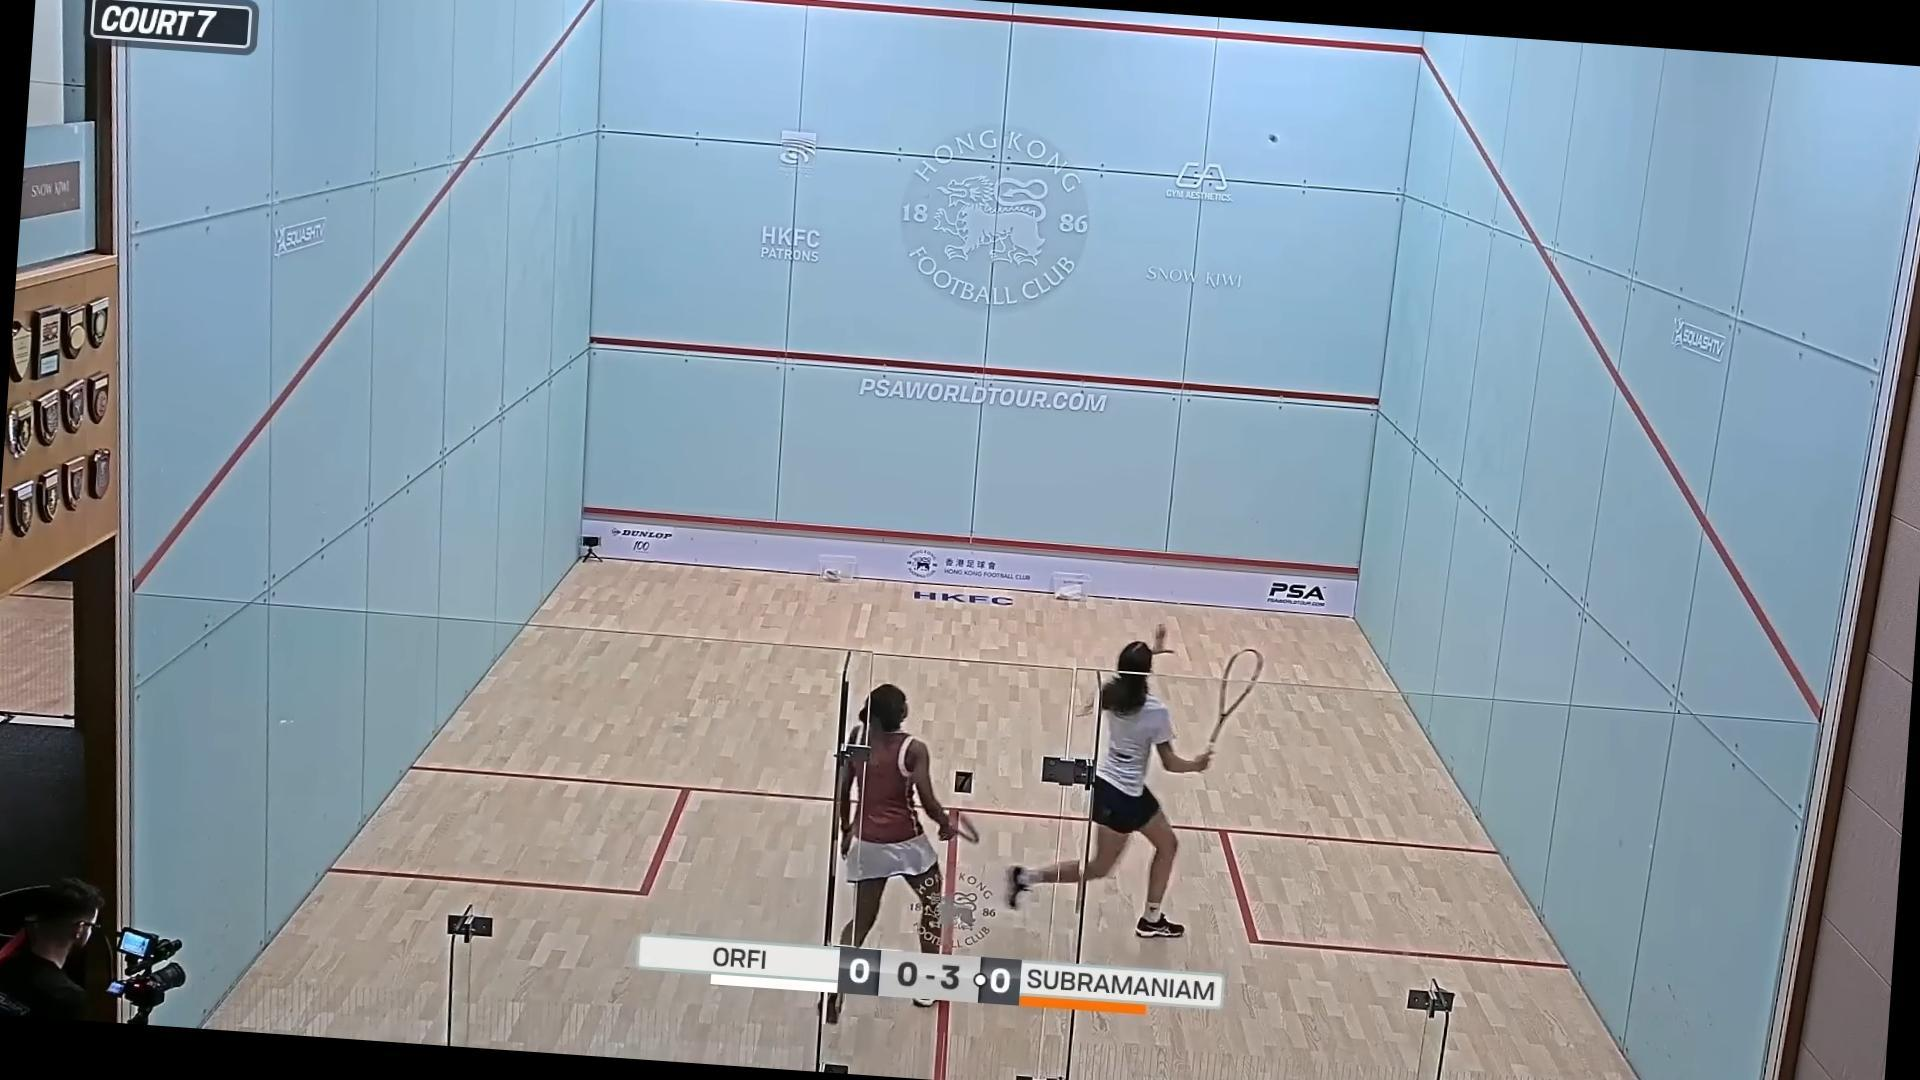Squash-Ball: (1255, 120, 1291, 156)
